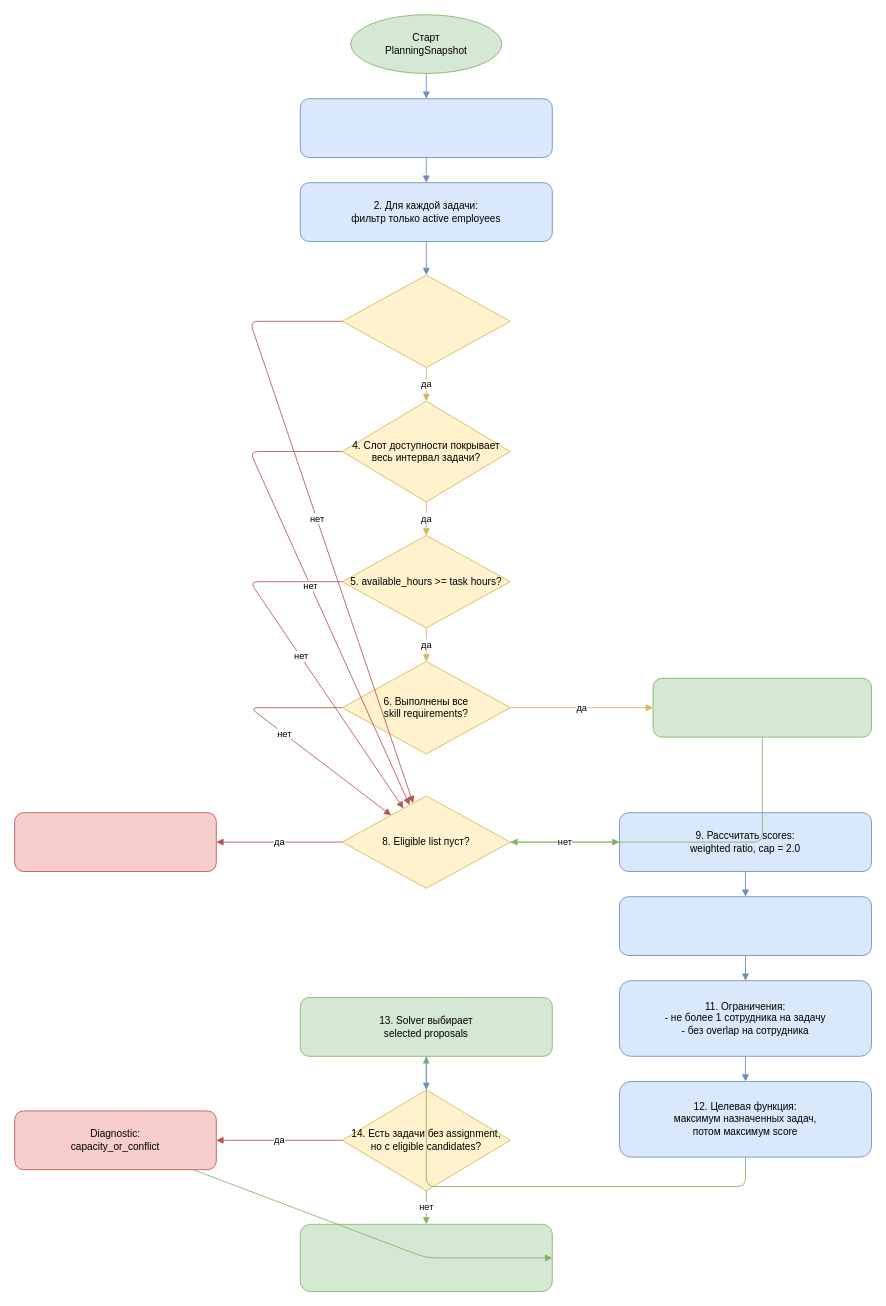
The diagram is 886 pixels wide and 1306 high, and some of its shapes have lost their labels. Here are the shapes that lost their labels. From the top down, the centre of each, then its label:
point (425, 128): 1. Взять список задач и сотрудников из snapshot
point (425, 321): 3. Совпадает департамент?
point (762, 707): 7. Добавить сотрудника в eligible list задачи
point (115, 842): Diagnostic: no_eligible_candidates
point (745, 926): 10. Построить CP-SAT variables x(task, employee)
point (425, 1257): 15. Собрать PlanResponse: summary + proposals + diagnostics + artifacts
